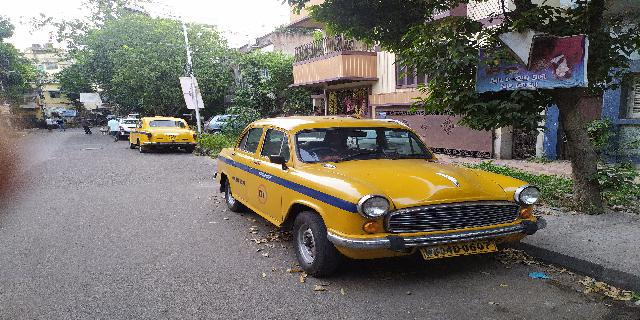Car: (209, 111, 547, 280), (127, 114, 197, 156), (115, 115, 137, 139)
